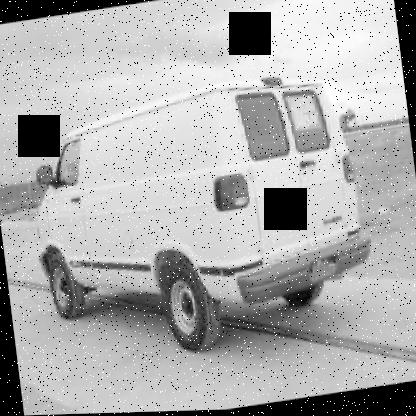not_emergency: (18, 72, 376, 368)
